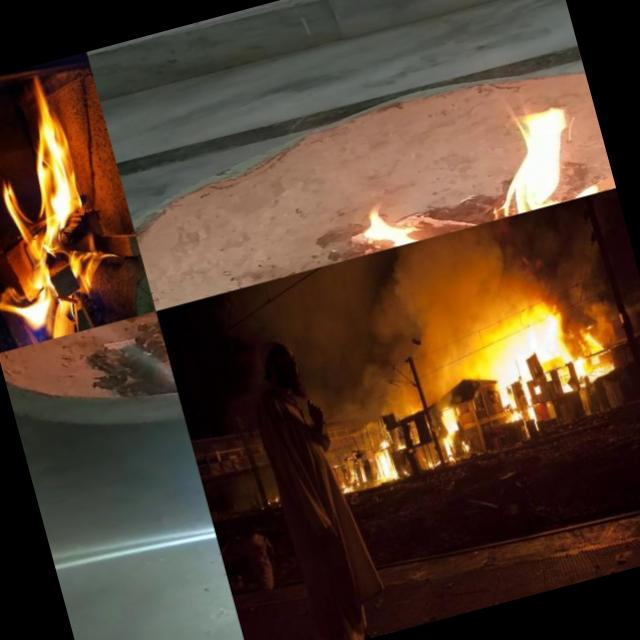fire: (0, 66, 121, 336), (476, 90, 616, 218), (472, 296, 576, 393), (352, 178, 448, 255), (496, 386, 542, 446), (571, 348, 621, 390), (436, 404, 470, 465), (369, 440, 402, 484), (574, 317, 606, 360), (337, 457, 367, 493)
smoke: (389, 232, 488, 395), (449, 209, 558, 319), (314, 334, 422, 431)
